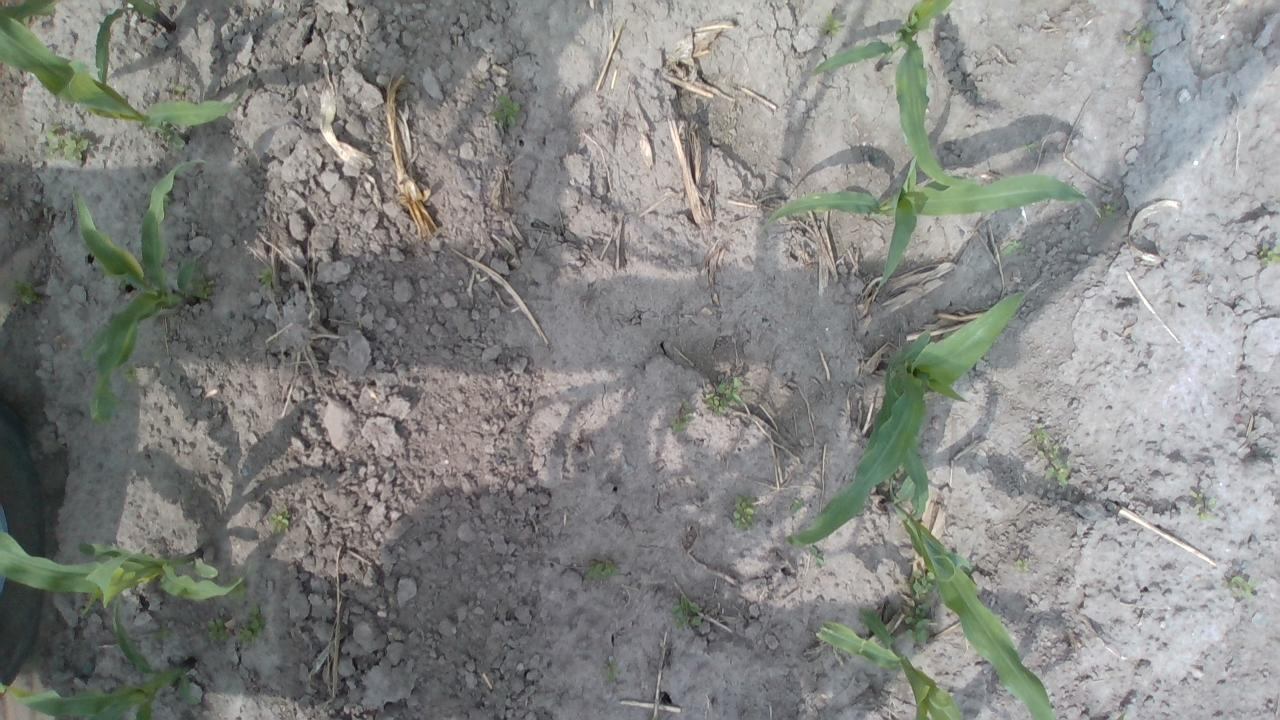Maize: (786, 288, 1034, 548), (769, 156, 1095, 296), (884, 478, 1056, 720), (70, 156, 206, 426), (0, 11, 254, 151), (809, 0, 968, 190), (0, 600, 196, 720), (0, 530, 248, 616), (814, 604, 964, 720), (0, 0, 176, 89)
Weeds: (903, 568, 936, 644), (1032, 424, 1068, 486), (43, 126, 93, 164), (706, 377, 742, 416), (671, 594, 705, 630), (236, 606, 267, 644), (489, 94, 522, 127), (4, 276, 40, 304), (732, 494, 758, 530), (587, 559, 622, 583), (1126, 22, 1152, 54), (1230, 574, 1258, 602), (670, 402, 694, 434), (191, 266, 212, 300), (1196, 494, 1218, 523), (207, 616, 230, 642), (227, 578, 249, 602), (270, 510, 290, 536), (821, 12, 842, 36), (1259, 242, 1280, 266), (120, 364, 144, 384), (1000, 238, 1025, 256), (1096, 202, 1118, 222), (809, 544, 825, 569), (152, 628, 180, 642), (260, 266, 273, 288), (608, 660, 620, 682), (790, 497, 806, 513), (1016, 558, 1029, 574), (1020, 143, 1038, 152)
